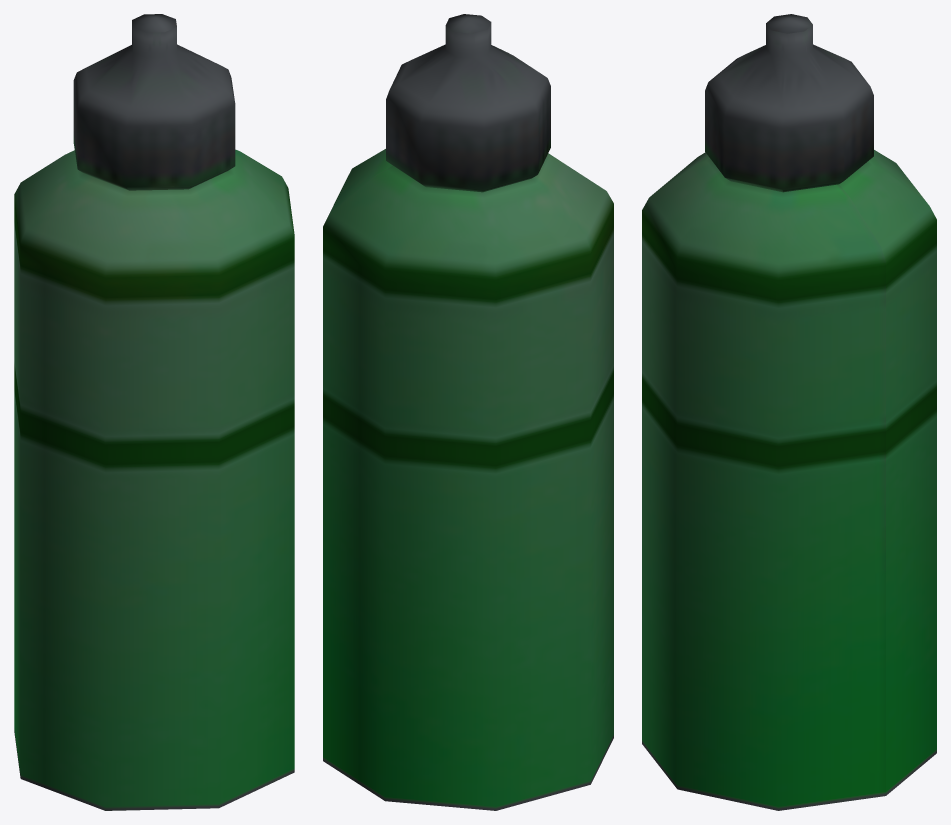
File: greenBottle.FBX
3 views of the same model, side by side, from view 1: azimuth 30°, elevation 25°; view 2: azimuth 150°, elevation 25°; view 3: azimuth 270°, elevation 25° (orthographic).
Visible parts, largest first — view 1: greenBottle; view 2: greenBottle; view 3: greenBottle.
Part boxes in pixels (x1=…): greenBottle: x1=14, y1=14, x2=294, y2=810; greenBottle: x1=323, y1=14, x2=613, y2=810; greenBottle: x1=642, y1=14, x2=936, y2=810.
Size of the model in its own units: 10.89 by 29.73 by 10.89.
